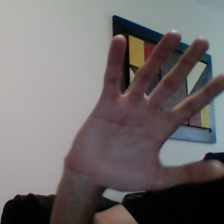left: (53, 26, 224, 201)
